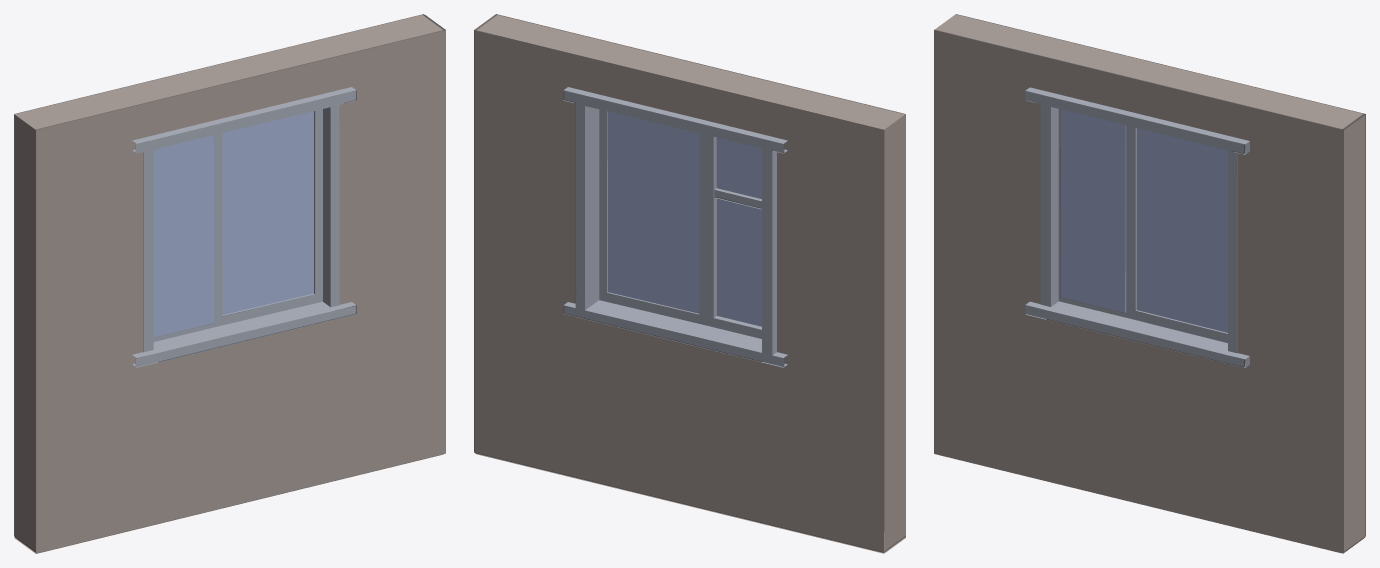
File: Hub_window_type1.FBX
3 renders of one model, left to right at view 1: azimuth 30°, elevation 25°; view 2: azimuth 150°, elevation 25°; view 3: azimuth 330°, elevation 25°, orthographic.
Visible parts, largest first — view 1: Hub_window_type1_004; view 2: Hub_window_type1_004; view 3: Hub_window_type1_004.
Boxes of the visible parts, left/top/right/bottom form: Hub_window_type1_004: left=14, top=14, right=445, bottom=553; Hub_window_type1_004: left=474, top=14, right=905, bottom=553; Hub_window_type1_004: left=934, top=14, right=1365, bottom=553.
Bounding box in the file's own units: 711 × 703 × 94.35.
Materials: 1 (1 with a texture image).
